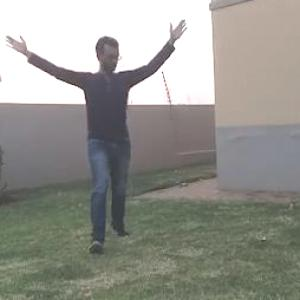takeoff: (1, 0, 190, 261)
